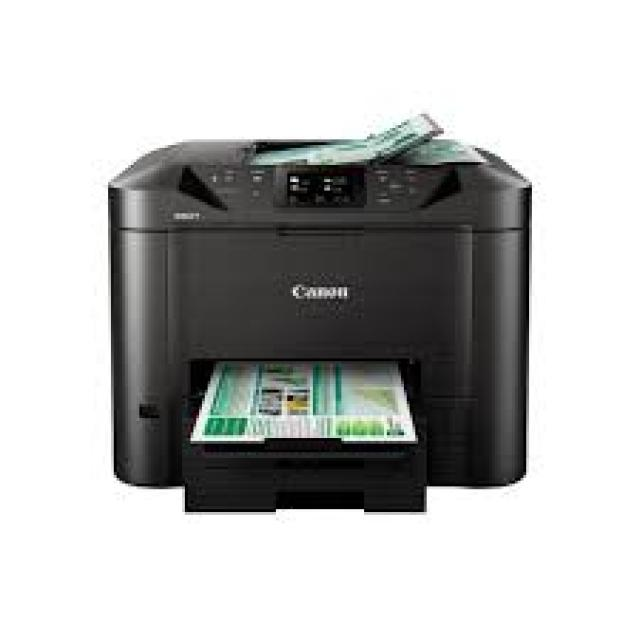printer: (105, 111, 532, 512)
